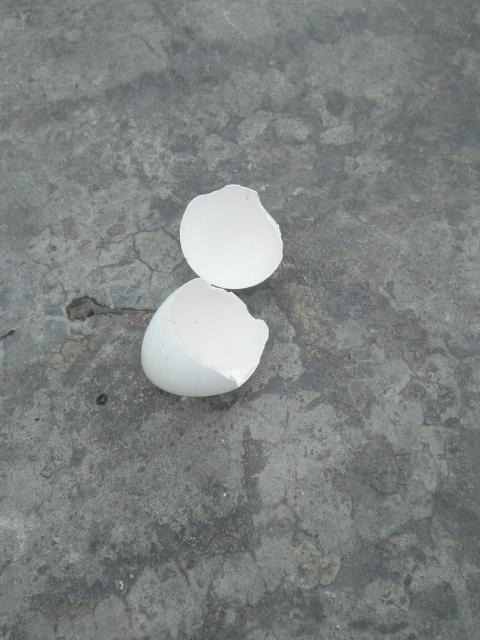Roto: (139, 279, 271, 397), (178, 182, 284, 290)
